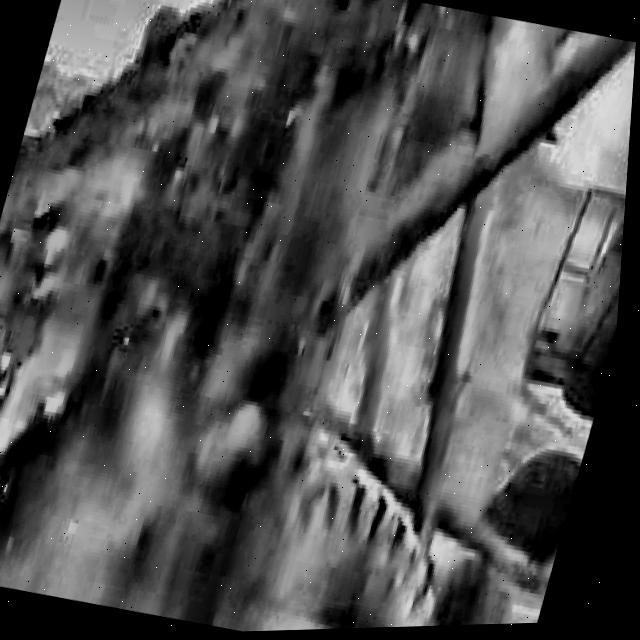dump_truck: (242, 0, 639, 634)
